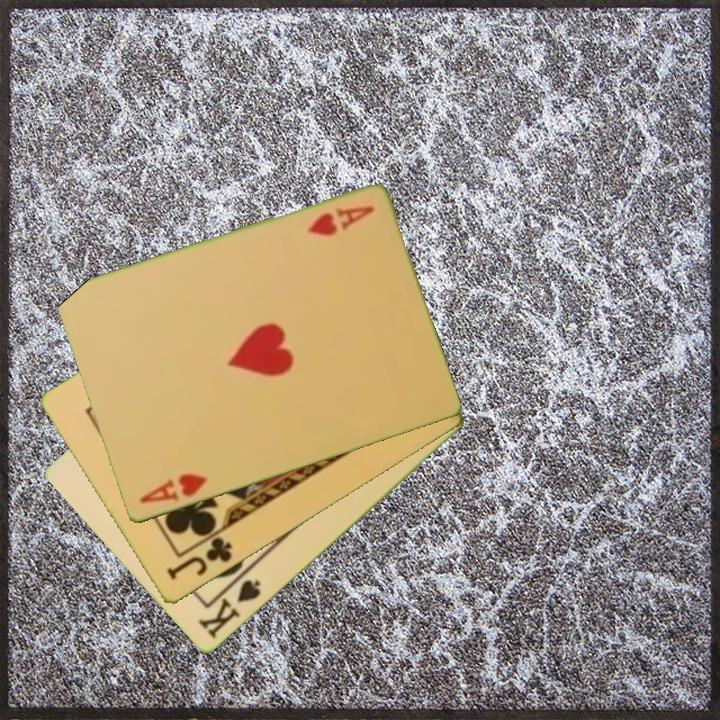Ah: (135, 470, 210, 507), (303, 202, 377, 239)
Jc: (162, 533, 235, 584)
Ks: (194, 568, 264, 642)
